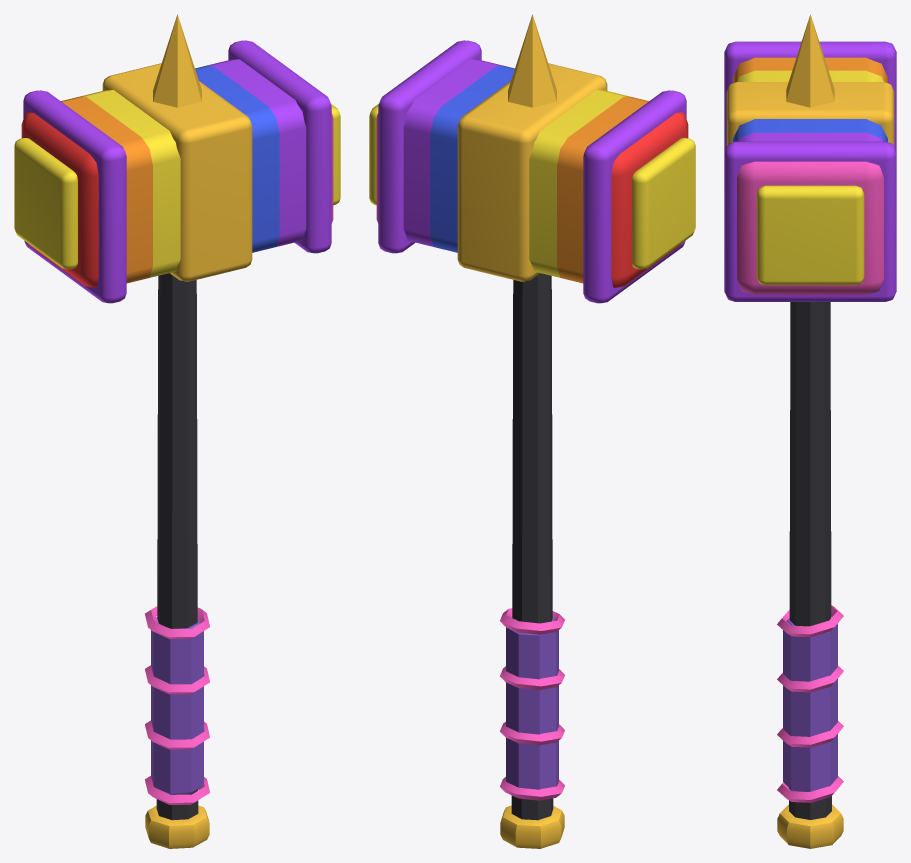
Rendered from RainbowWarHammer.fbx.
3 views of the same model, side by side, from view 1: azimuth 30°, elevation 25°; view 2: azimuth 150°, elevation 25°; view 3: azimuth 270°, elevation 25° (orthographic).
Visible parts, largest first — view 1: RainbowWarHammer; view 2: RainbowWarHammer; view 3: RainbowWarHammer.
Boxes of the visible parts, x1=… form: RainbowWarHammer: x1=14, y1=14, x2=340, y2=848; RainbowWarHammer: x1=369, y1=14, x2=695, y2=848; RainbowWarHammer: x1=724, y1=14, x2=896, y2=848.
Bounding box in the file's own units: 1.5 × 4.23 × 0.8.
Materials: 1 (1 with a texture image).
